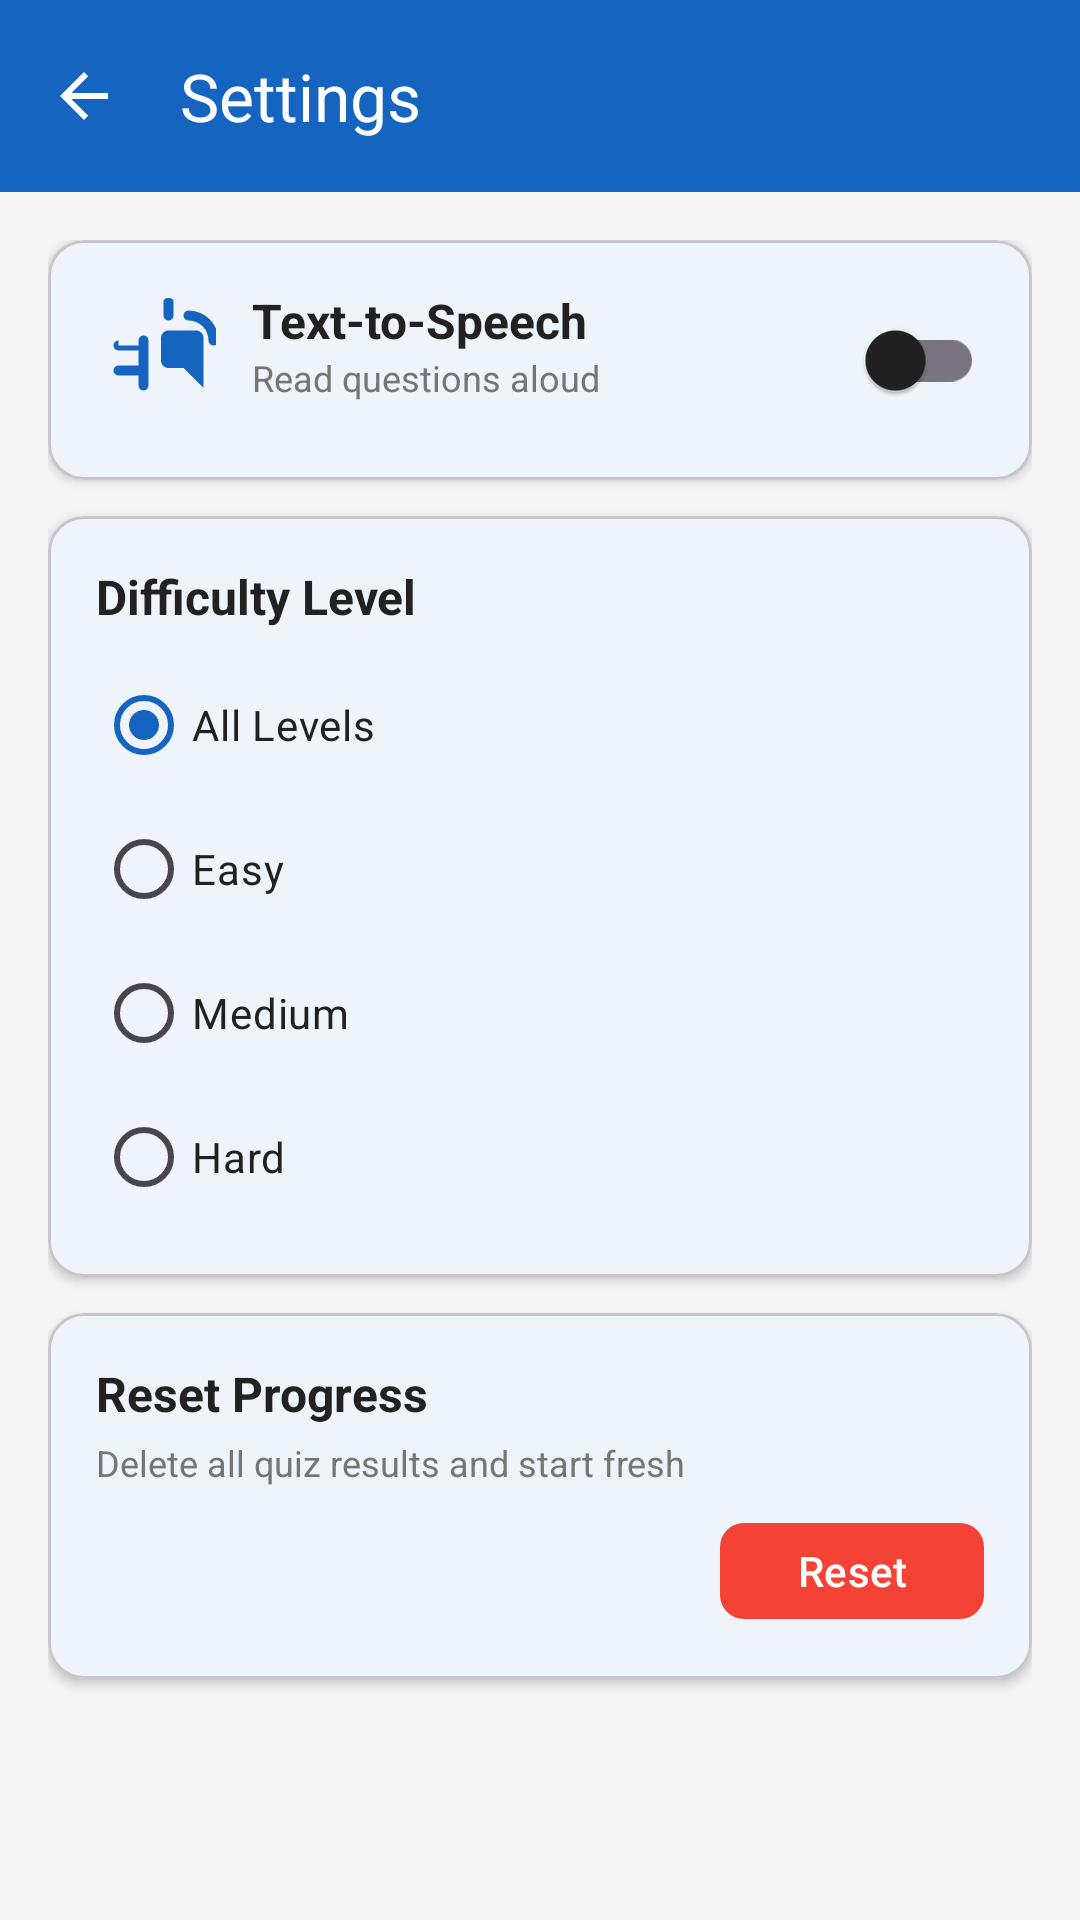

Screen size 1080x1920. Icon name, then its box in pixels as box=[x1, y1, x2, y2]:
speaker: box=[113, 298, 216, 391]
